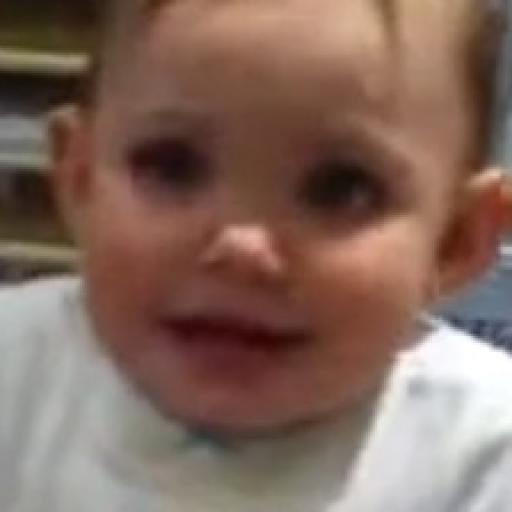Autism: (64, 6, 512, 454)
